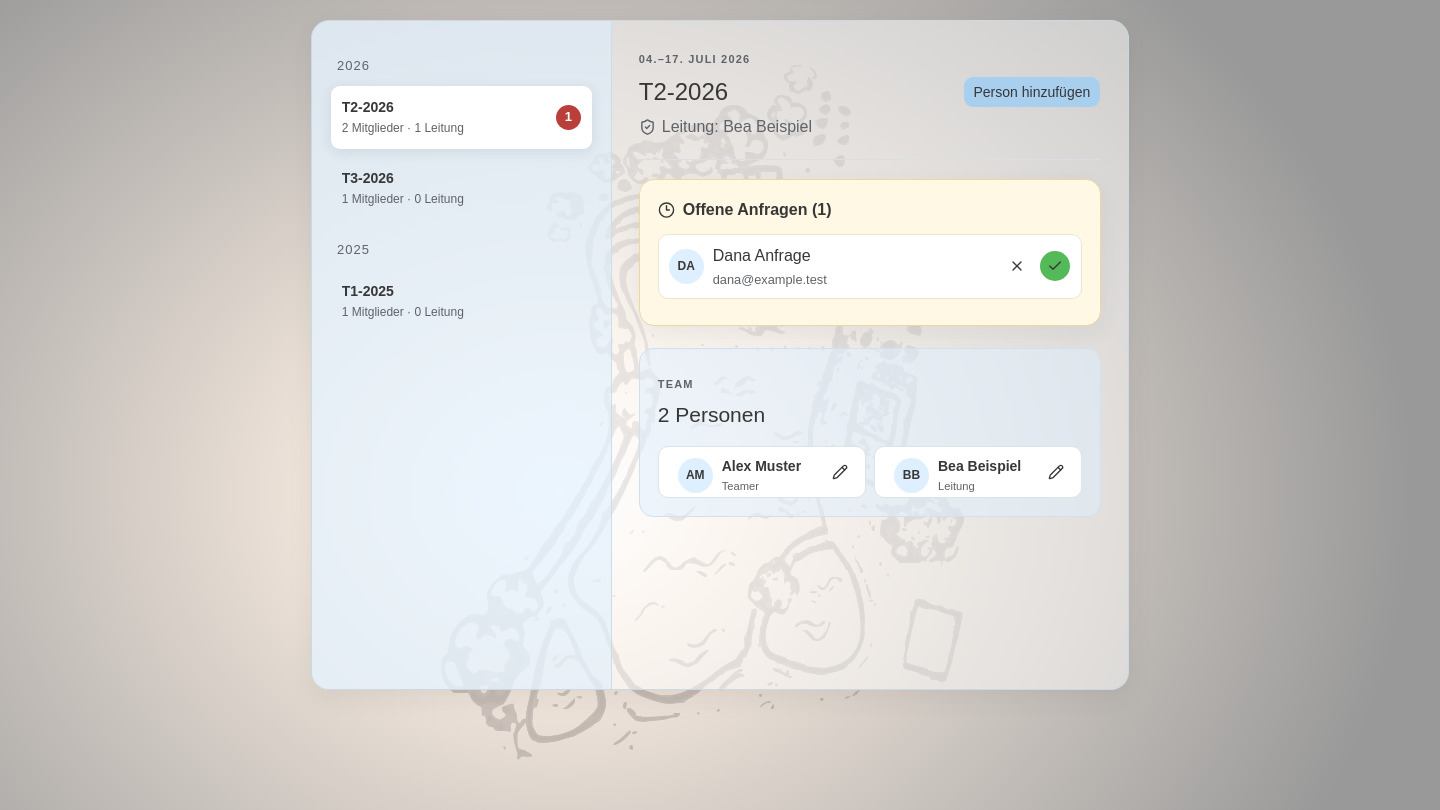
admin team overview › lets desktop users choose an ordered Turnus and see only its detail
Click the button with aria-label "T3-2026 auswählen": coordinates (368, 178) [330,156,593,220]
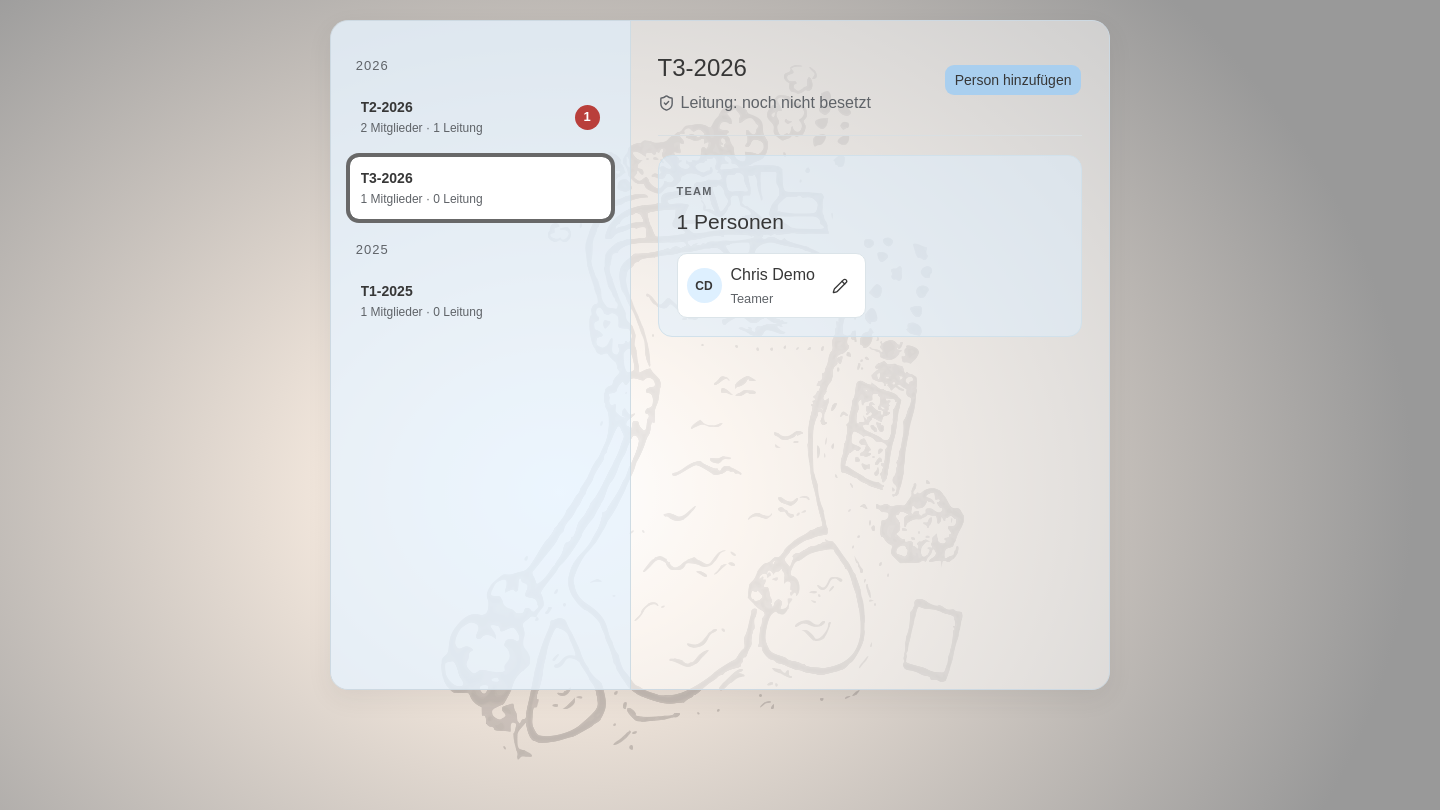
Expected: the text "Chris Demo" is shown, [730,263,815,287]
Expected: the button "Alex Muster" is gone
